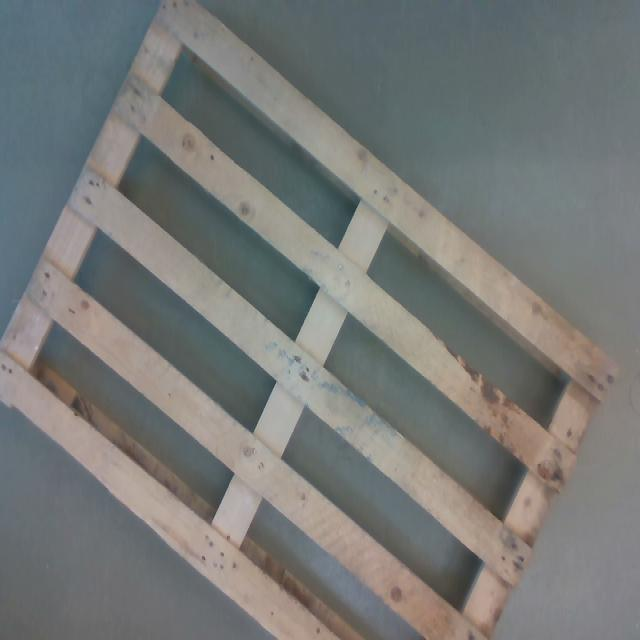pallet: (0, 0, 616, 640)
